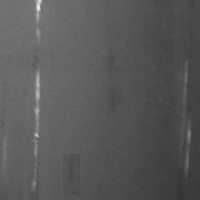inclusion: (63, 154, 80, 195), (105, 84, 120, 116)
scratches: (177, 61, 193, 180), (27, 68, 42, 187), (31, 1, 44, 42)
